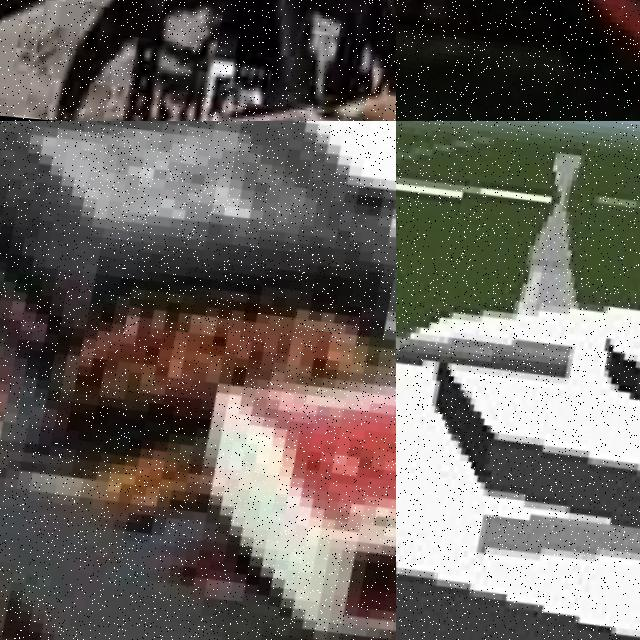drone: (0, 121, 396, 640), (396, 121, 640, 640), (0, 0, 396, 121), (396, 0, 640, 121)
